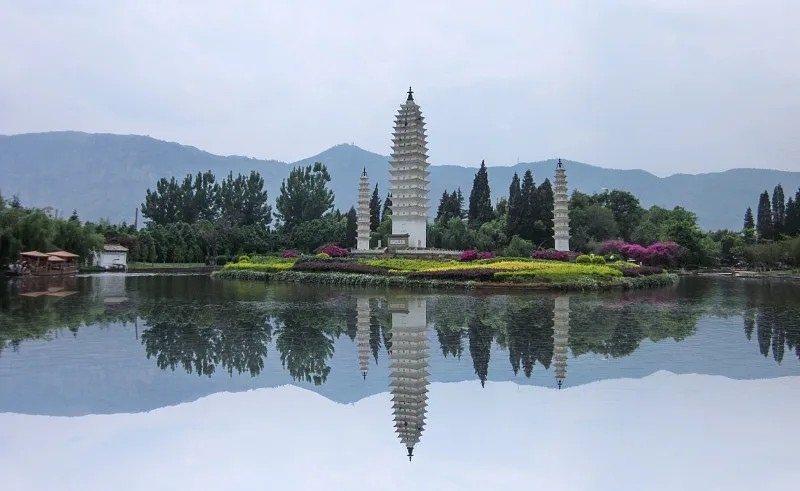ThreePagoda: (387, 85, 431, 247)
